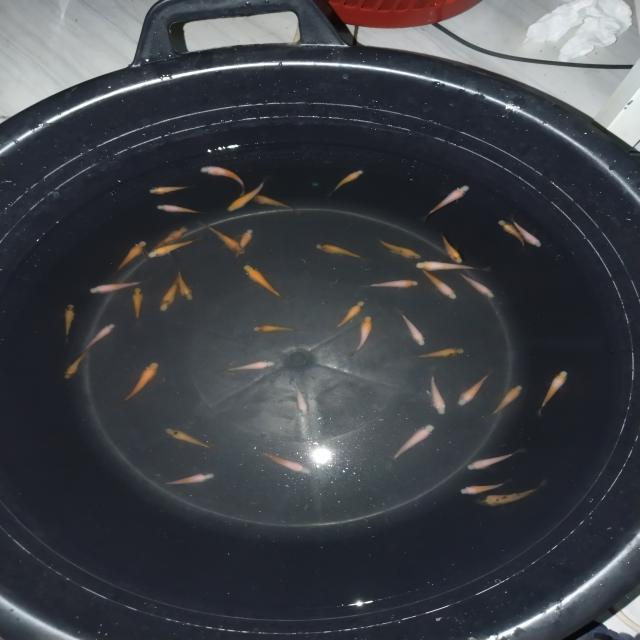nila: (112, 358, 164, 408), (415, 182, 473, 224), (467, 478, 546, 508), (220, 175, 272, 220), (197, 162, 259, 197), (388, 421, 439, 461), (256, 446, 318, 478), (460, 444, 526, 474), (146, 236, 203, 268), (240, 261, 286, 300), (482, 380, 526, 420), (418, 266, 464, 302), (538, 368, 573, 415), (454, 369, 494, 410), (309, 238, 372, 264), (103, 238, 145, 276), (150, 468, 219, 491), (202, 221, 250, 254), (162, 425, 215, 454), (504, 212, 544, 250), (370, 235, 426, 262), (74, 320, 119, 353), (410, 258, 490, 276), (451, 477, 515, 499), (224, 224, 256, 268), (402, 343, 469, 364), (166, 265, 202, 304), (328, 298, 369, 331), (156, 269, 183, 319), (490, 217, 528, 252), (147, 222, 190, 252), (347, 313, 375, 358), (286, 376, 316, 418), (396, 308, 428, 347), (329, 166, 368, 198), (458, 272, 502, 300), (251, 194, 303, 217), (54, 352, 92, 382), (217, 357, 280, 375), (438, 230, 470, 265), (54, 302, 78, 348), (150, 202, 210, 220), (426, 372, 448, 420), (80, 280, 144, 296), (128, 284, 146, 329), (148, 182, 198, 197), (360, 277, 422, 289), (246, 323, 302, 333)
